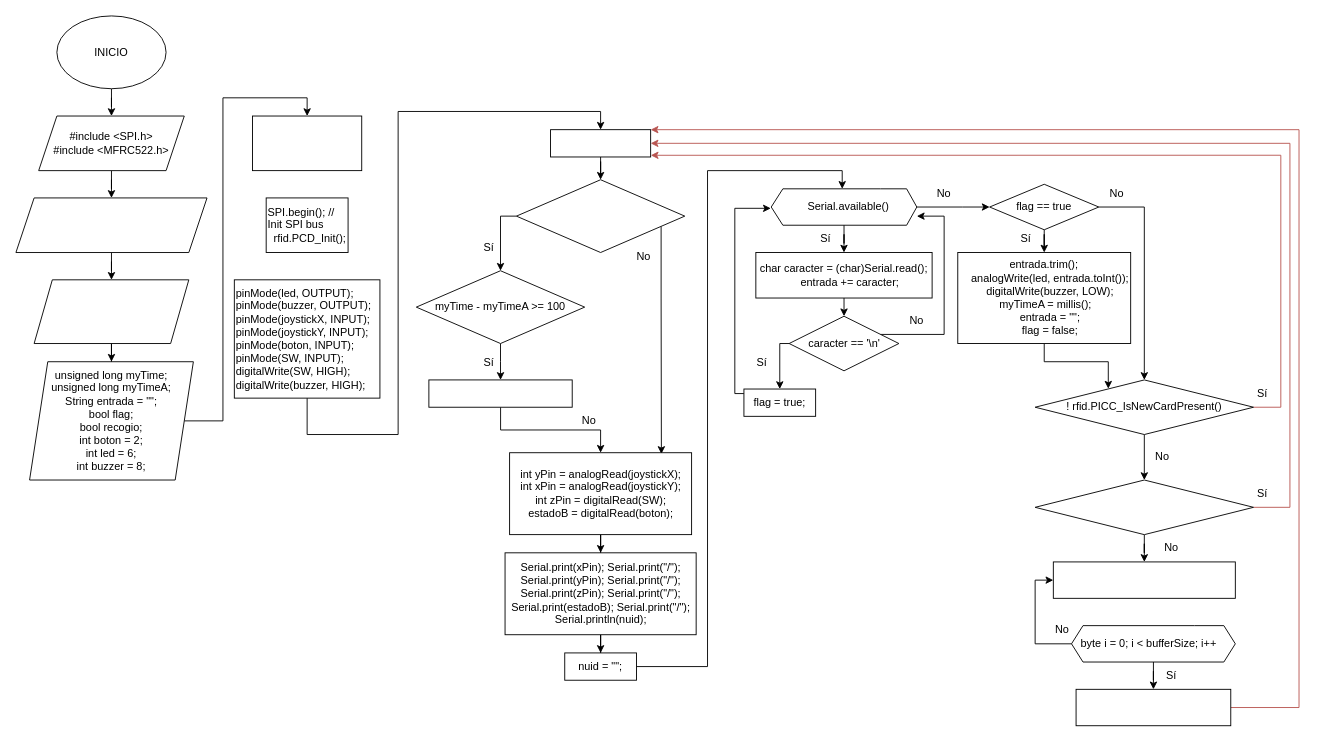
Image size: 1322x742. Some labels were removed from this diagram. The centre of each missing label's shape, as x and y in pixels:
"! rfid.PICC_ReadCardSerial()" goes at (x=1144, y=507).
"#define SS_PIN 10 #define RST_PIN 9 MFRC522 rfid(SS_PIN, RST_PIN);" goes at (x=111, y=225).
"digitalRead(buzzer) == LOW" goes at (x=600, y=216).
"digitalWrite(buzzer, HIGH);" goes at (x=500, y=393).
"Inicializar comunicación serial a 9600 baudios" goes at (x=307, y=143).
"int joystickX = A4; int joystickY = A5; int SW = 5; String nuid, estadoB;" goes at (x=111, y=311).
"myTime = millis();" goes at (x=600, y=143).
"nuid = nuid + String(buffer[i], HEX);" goes at (x=1143, y=579).
"rfid.PICC_HaltA(); rfid.PCD_StopCrypto1();" goes at (x=1153, y=707).
